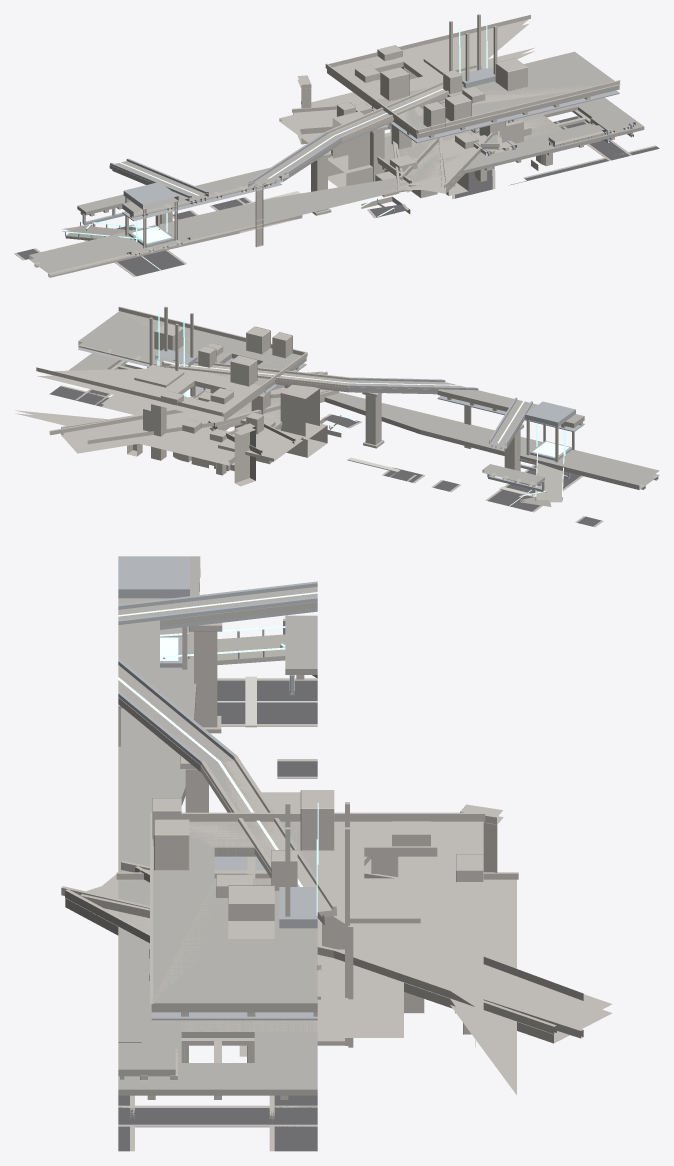
The model's file is tile_5_2.glb.
3 renders of one model, top to bottom at view 1: azimuth 30°, elevation 25°; view 2: azimuth 150°, elevation 25°; view 3: azimuth 270°, elevation 25°, orthographic. The views are drawn at different scales.
Visible parts, largest first — view 1: t5_2_hlod, t5_2_c17_6_0_deck, t5_2_c18_7_0_deck, t5_2_c17_6_0_concrete, t5_2_c17_6_0_metal, t5_2_c17_6_0_road, t5_2-occonly, t5_2_c18_7_0_metal, t5_2_c18_7_0_concrete, t5_2_c17_6_0_up_accent, t5_2_c18_7_0_road, t5_2_c18_7_0_up_accent; view 2: t5_2_hlod, t5_2_c17_6_0_deck, t5_2_c18_7_0_deck, t5_2-occonly, t5_2_c17_6_0_metal, t5_2_c17_6_0_concrete, t5_2_c18_7_0_road, t5_2_c18_7_0_metal, t5_2_c18_7_0_concrete, t5_2_c17_6_0_up_accent, t5_2_c18_7_0_up_accent, t5_2_c17_6_0_road (+1 smaller); view 3: t5_2_hlod, t5_2_c17_6_0_deck, t5_2_c18_7_0_deck, t5_2-occonly, t5_2_c18_7_0_road, t5_2_c17_6_0_metal, t5_2_c17_6_0_concrete, t5_2_c18_7_0_metal, t5_2_c18_7_0_concrete, t5_2_c17_6_0_road, t5_2_c18_7_0_up_accent, t5_2_c17_6_0_up_accent.
Boxes of the visible parts, <box> form: t5_2_hlod: <box>279,15,620,213</box>; t5_2_c17_6_0_deck: <box>29,71,644,275</box>; t5_2_c18_7_0_deck: <box>61,51,616,240</box>; t5_2_c17_6_0_concrete: <box>34,97,656,277</box>; t5_2_c17_6_0_metal: <box>104,90,633,247</box>; t5_2_c17_6_0_road: <box>117,140,659,276</box>; t5_2-occonly: <box>328,84,479,193</box>; t5_2_c18_7_0_metal: <box>65,67,510,238</box>; t5_2_c18_7_0_concrete: <box>14,46,587,260</box>; t5_2_c17_6_0_up_accent: <box>102,136,394,270</box>; t5_2_c18_7_0_road: <box>17,116,586,259</box>; t5_2_c18_7_0_up_accent: <box>65,40,487,235</box>; t5_2_hlod: <box>15,306,350,486</box>; t5_2_c17_6_0_deck: <box>89,311,659,489</box>; t5_2_c18_7_0_deck: <box>68,323,562,506</box>; t5_2-occonly: <box>61,361,349,453</box>; t5_2_c17_6_0_metal: <box>228,358,584,479</box>; t5_2_c17_6_0_concrete: <box>116,360,658,490</box>; t5_2_c18_7_0_road: <box>49,386,601,526</box>; t5_2_c18_7_0_metal: <box>78,348,562,500</box>; t5_2_c18_7_0_concrete: <box>60,325,603,527</box>; t5_2_c17_6_0_up_accent: <box>329,382,568,473</box>; t5_2_c18_7_0_up_accent: <box>157,331,563,506</box>; t5_2_c17_6_0_road: <box>124,364,580,488</box>; t5_2_hlod: <box>61,756,611,1094</box>; t5_2_c17_6_0_deck: <box>118,556,217,1095</box>; t5_2_c18_7_0_deck: <box>218,586,317,1095</box>; t5_2-occonly: <box>65,761,612,1043</box>; t5_2_c18_7_0_road: <box>218,621,317,1151</box>; t5_2_c17_6_0_metal: <box>118,557,217,1079</box>; t5_2_c17_6_0_concrete: <box>118,623,217,1151</box>; t5_2_c18_7_0_metal: <box>218,581,317,1020</box>; t5_2_c18_7_0_concrete: <box>218,618,317,1151</box>; t5_2_c17_6_0_road: <box>118,680,217,1151</box>; t5_2_c18_7_0_up_accent: <box>218,592,317,915</box>; t5_2_c17_6_0_up_accent: <box>118,603,217,761</box>.
Size of what is drawn, in the model's own units: 780 by 150 by 332.
